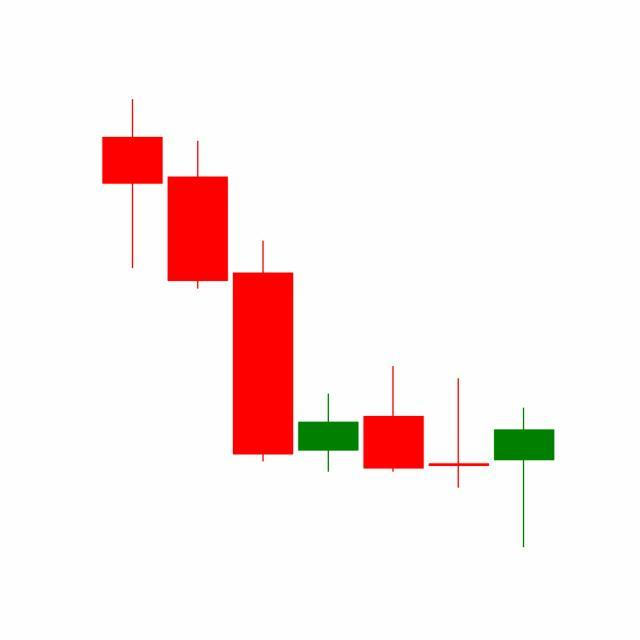Unique 3 River: (360, 363, 556, 549)
